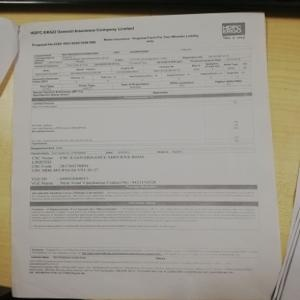image: (219, 20, 246, 36)
table: (27, 91, 255, 155), (35, 45, 253, 91)
text: (27, 150, 187, 184), (31, 189, 255, 200), (27, 24, 140, 37)
